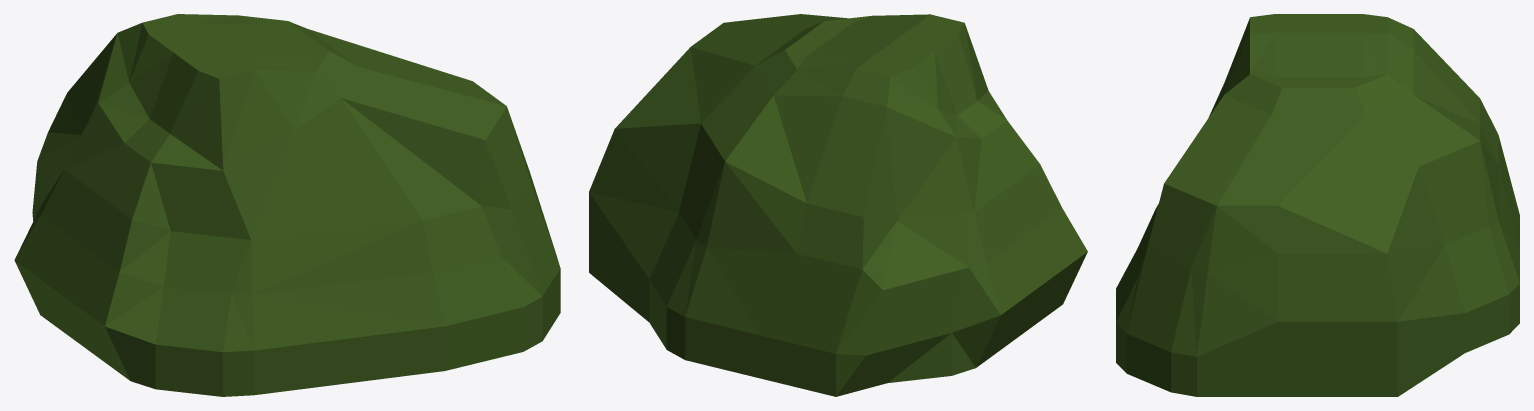
The model's file is Bush3.fbx.
3 renders of one model, left to right at view 1: azimuth 30°, elevation 25°; view 2: azimuth 150°, elevation 25°; view 3: azimuth 270°, elevation 25°, orthographic. The views are drawn at different scales.
Visible parts, largest first — view 1: Bush3; view 2: Bush3; view 3: Bush3.
Boxes of the visible parts, <box> form: Bush3: <box>14,14,560,396</box>; Bush3: <box>589,14,1087,396</box>; Bush3: <box>1116,14,1519,396</box>.
Bounding box in the file's own units: 895 × 547 × 816.
